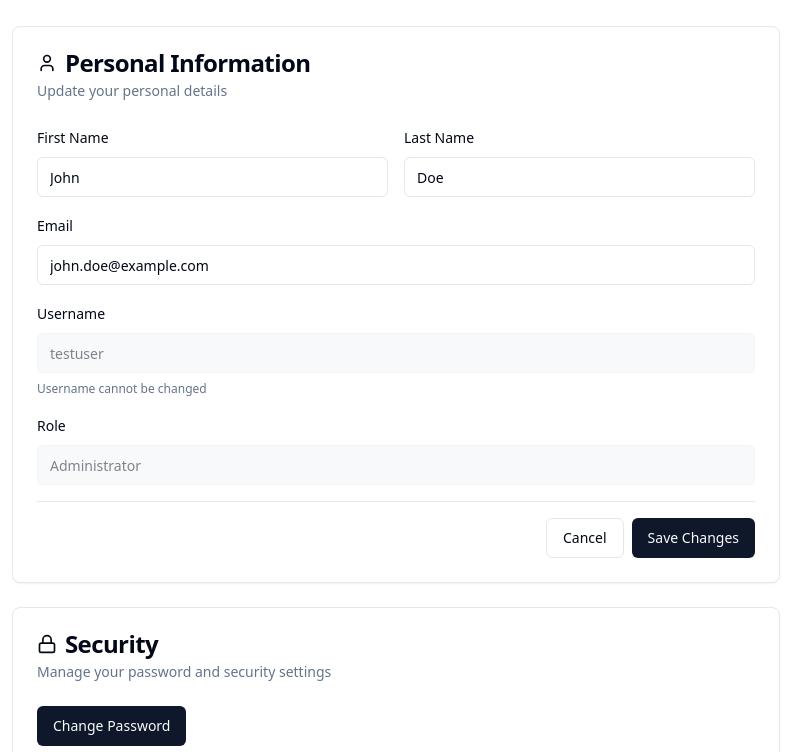
Test case: ProfilePage › validates password minimum length
Expected: the field showing "John" is shown, [37,157,388,197]
Click the button "Change Password".
click(112, 726)  # box [37,706,186,746]
(page scrolled)
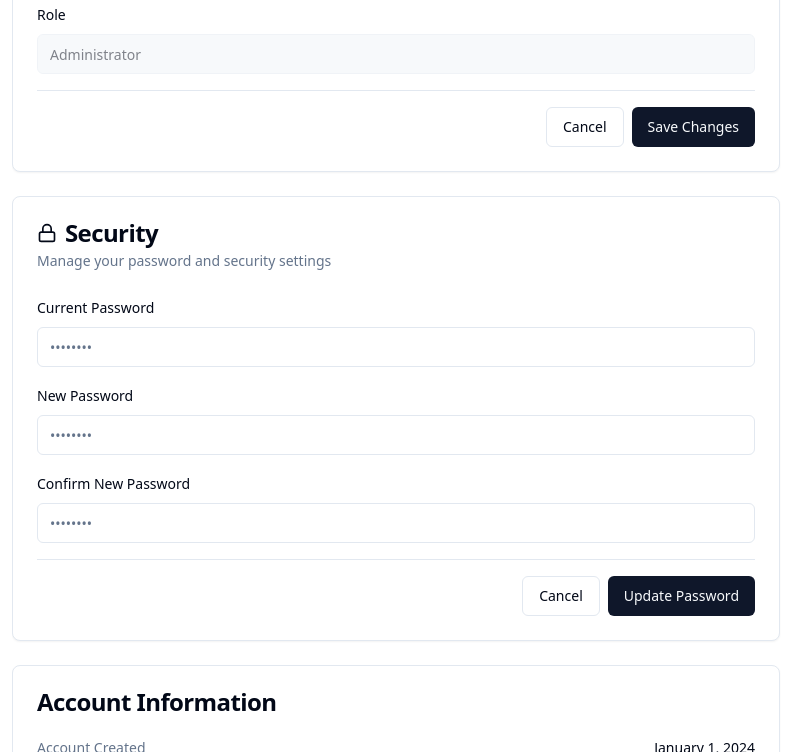
Now the password field labelled "Current Password" is shown
Type "old" into the password field labelled "Current Password".
click(396, 347); type("old")  # box [37,327,755,367]
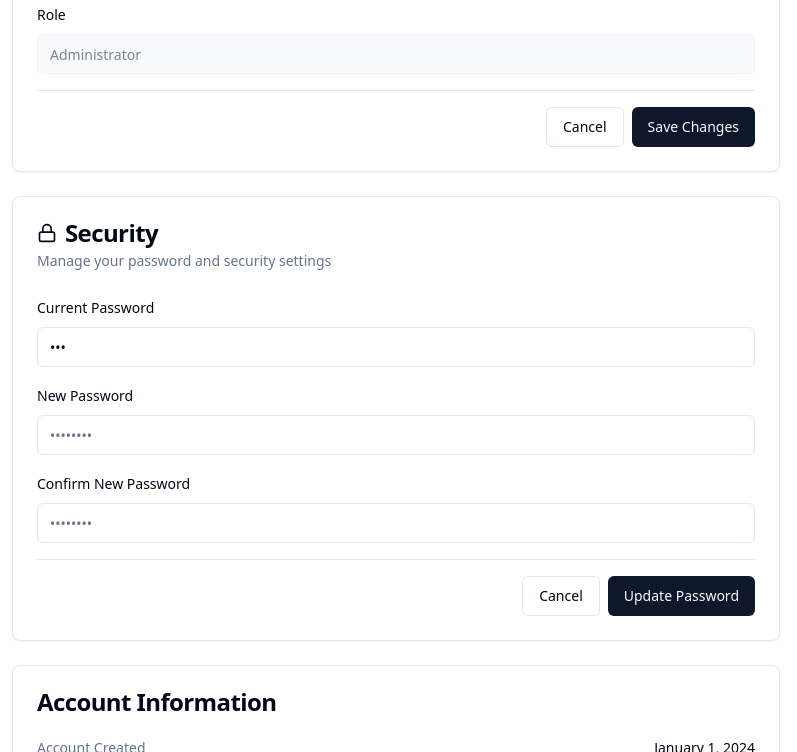
Type "short" into the password field labelled "New Password".
click(396, 435); type("short")  # box [37,415,755,455]
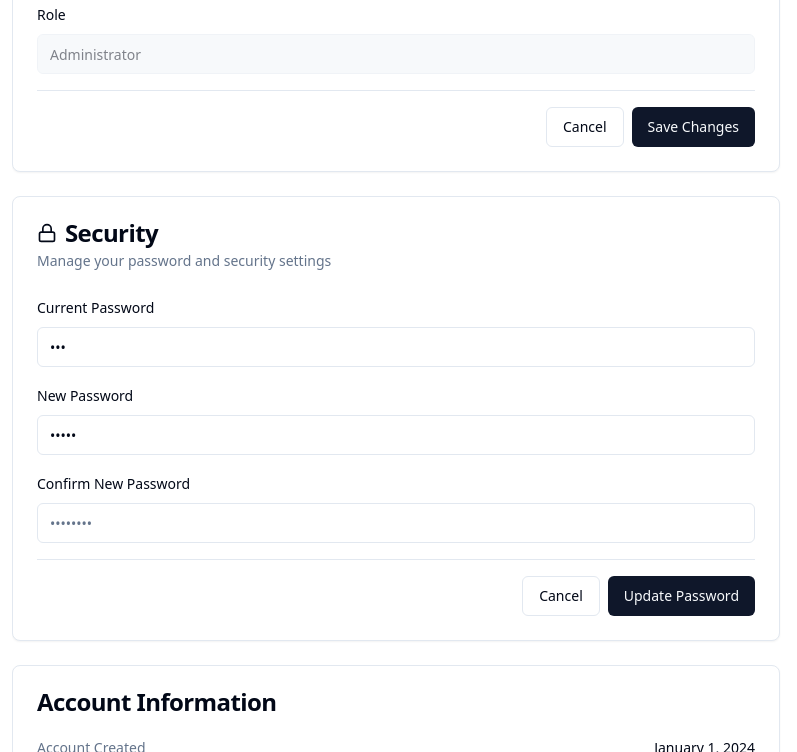
Type "short" into the password field labelled "Confirm New Password".
click(396, 523); type("short")  # box [37,503,755,543]
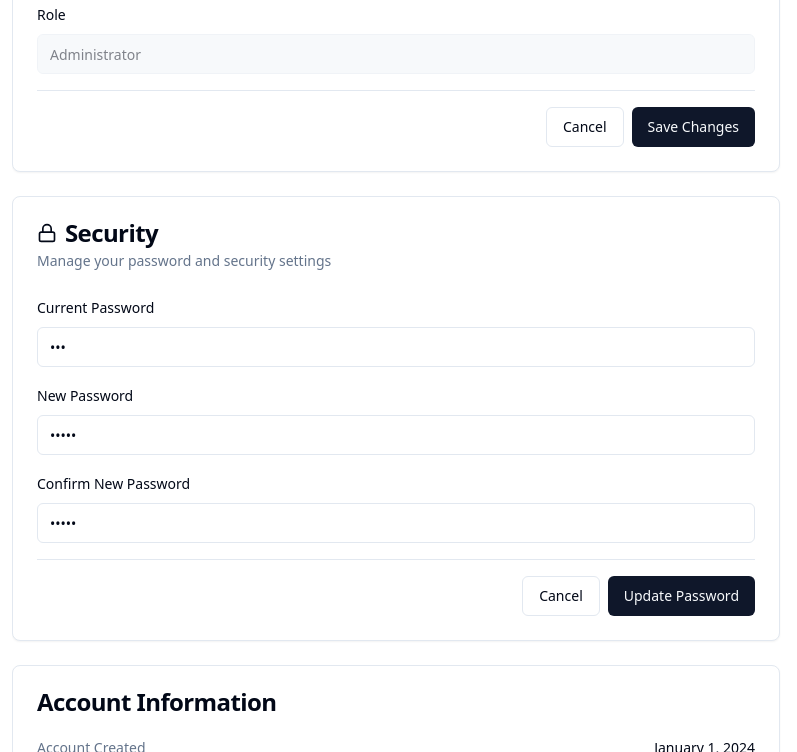
Click the button "Update Password".
click(681, 596)  # box [608,576,755,616]
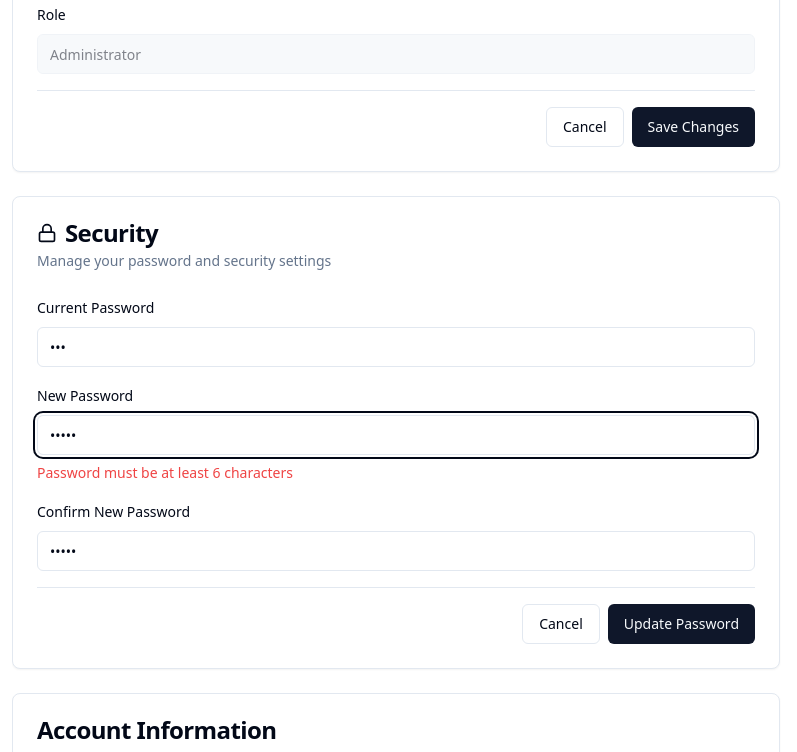
Now the text "Password must be at least 6 characters" is shown, box [37,463,293,482]
